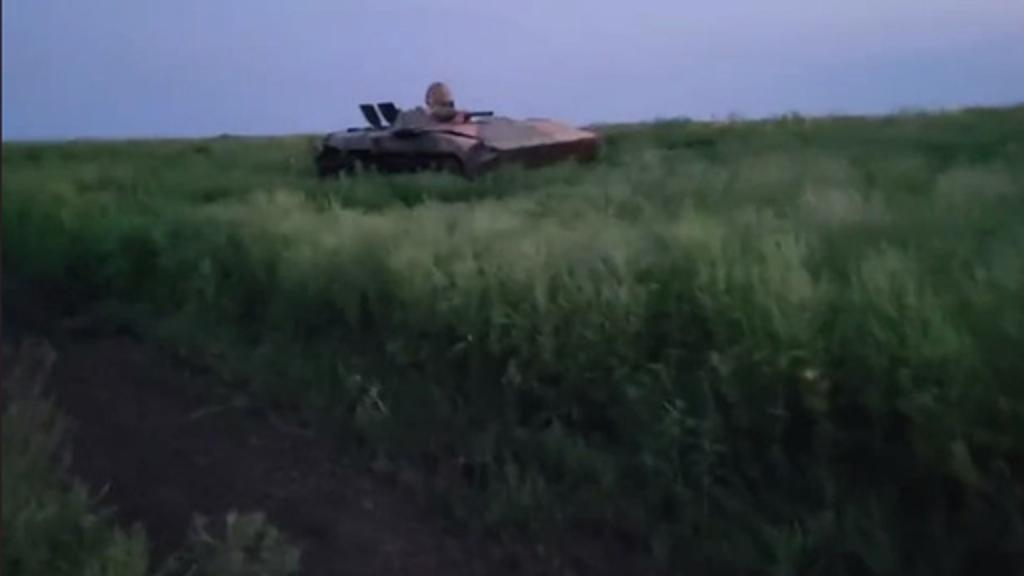APC-IFV: (286, 88, 602, 196)
